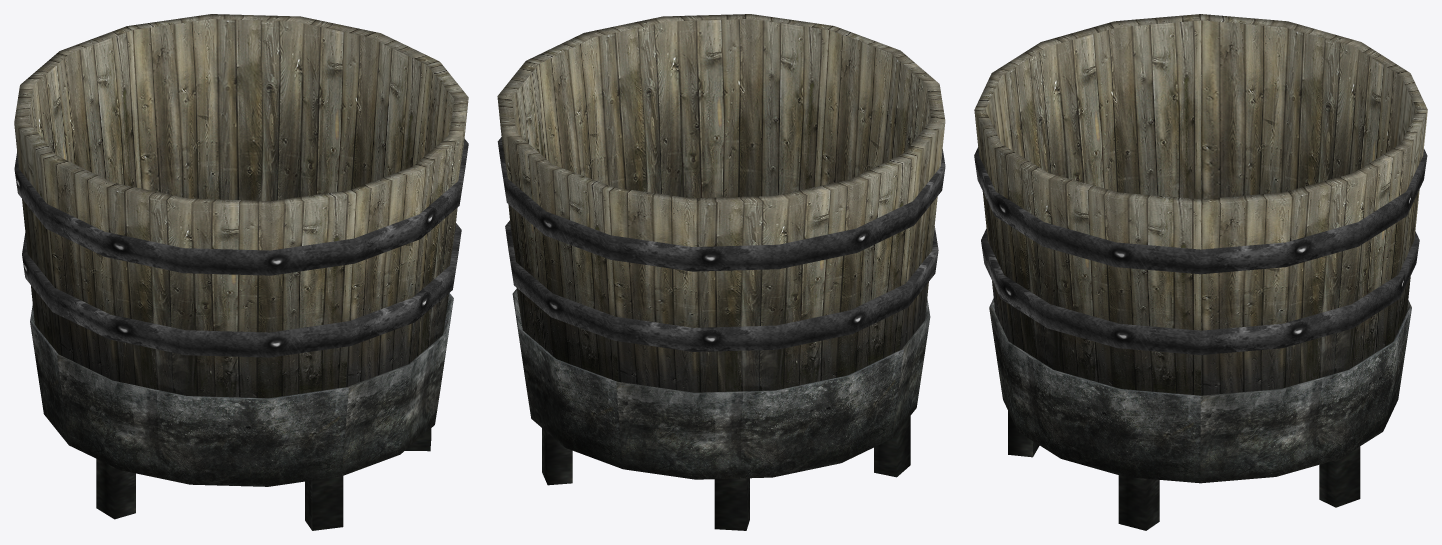
File: wanna_nozki.fbx
3 views of the same model, side by side, from view 1: azimuth 30°, elevation 25°; view 2: azimuth 150°, elevation 25°; view 3: azimuth 270°, elevation 25° (orthographic).
Parts seen in each view (by area): view 1: Cylinder_000; view 2: Cylinder_000; view 3: Cylinder_000.
Part boxes in pixels (x1,y1,x2,y2): Cylinder_000: (14, 14, 468, 530); Cylinder_000: (497, 14, 945, 530); Cylinder_000: (974, 14, 1427, 530).
Bounding box in the file's own units: 2.3 × 1.92 × 2.31.
